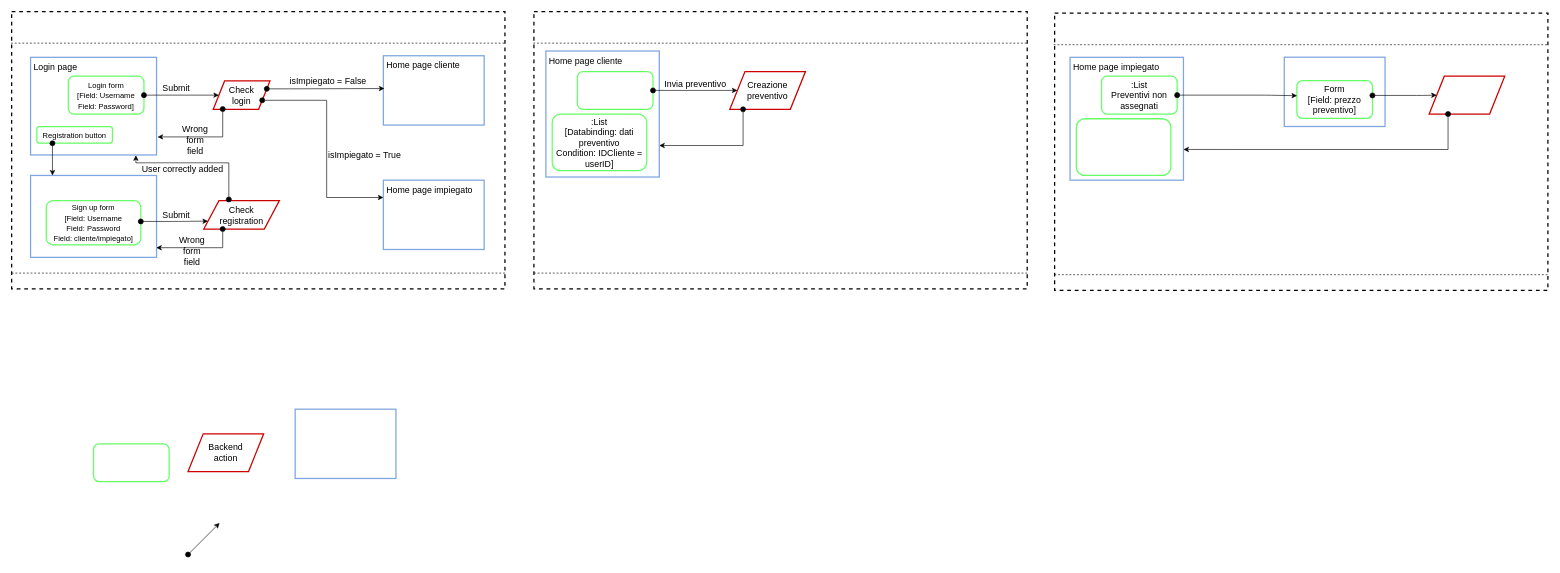
The diagram is 1560 pixels wide and 573 high, and some of its shapes have lost their labels. Each missing label, with the box of its shape:
:List [Databinding: dati preventivo Condition: IDImpiegato = userID]: (1075, 118, 1171, 176)
Assegna e prezza preventivo: (1428, 75, 1505, 114)
Element: (93, 443, 169, 482)
Page name: (294, 408, 396, 479)
Preventivo form [Field: Prodotto Field: opzioni]: (576, 71, 653, 110)
Prezza preventivo: (1283, 56, 1385, 127)
Registration page: (30, 175, 157, 258)
